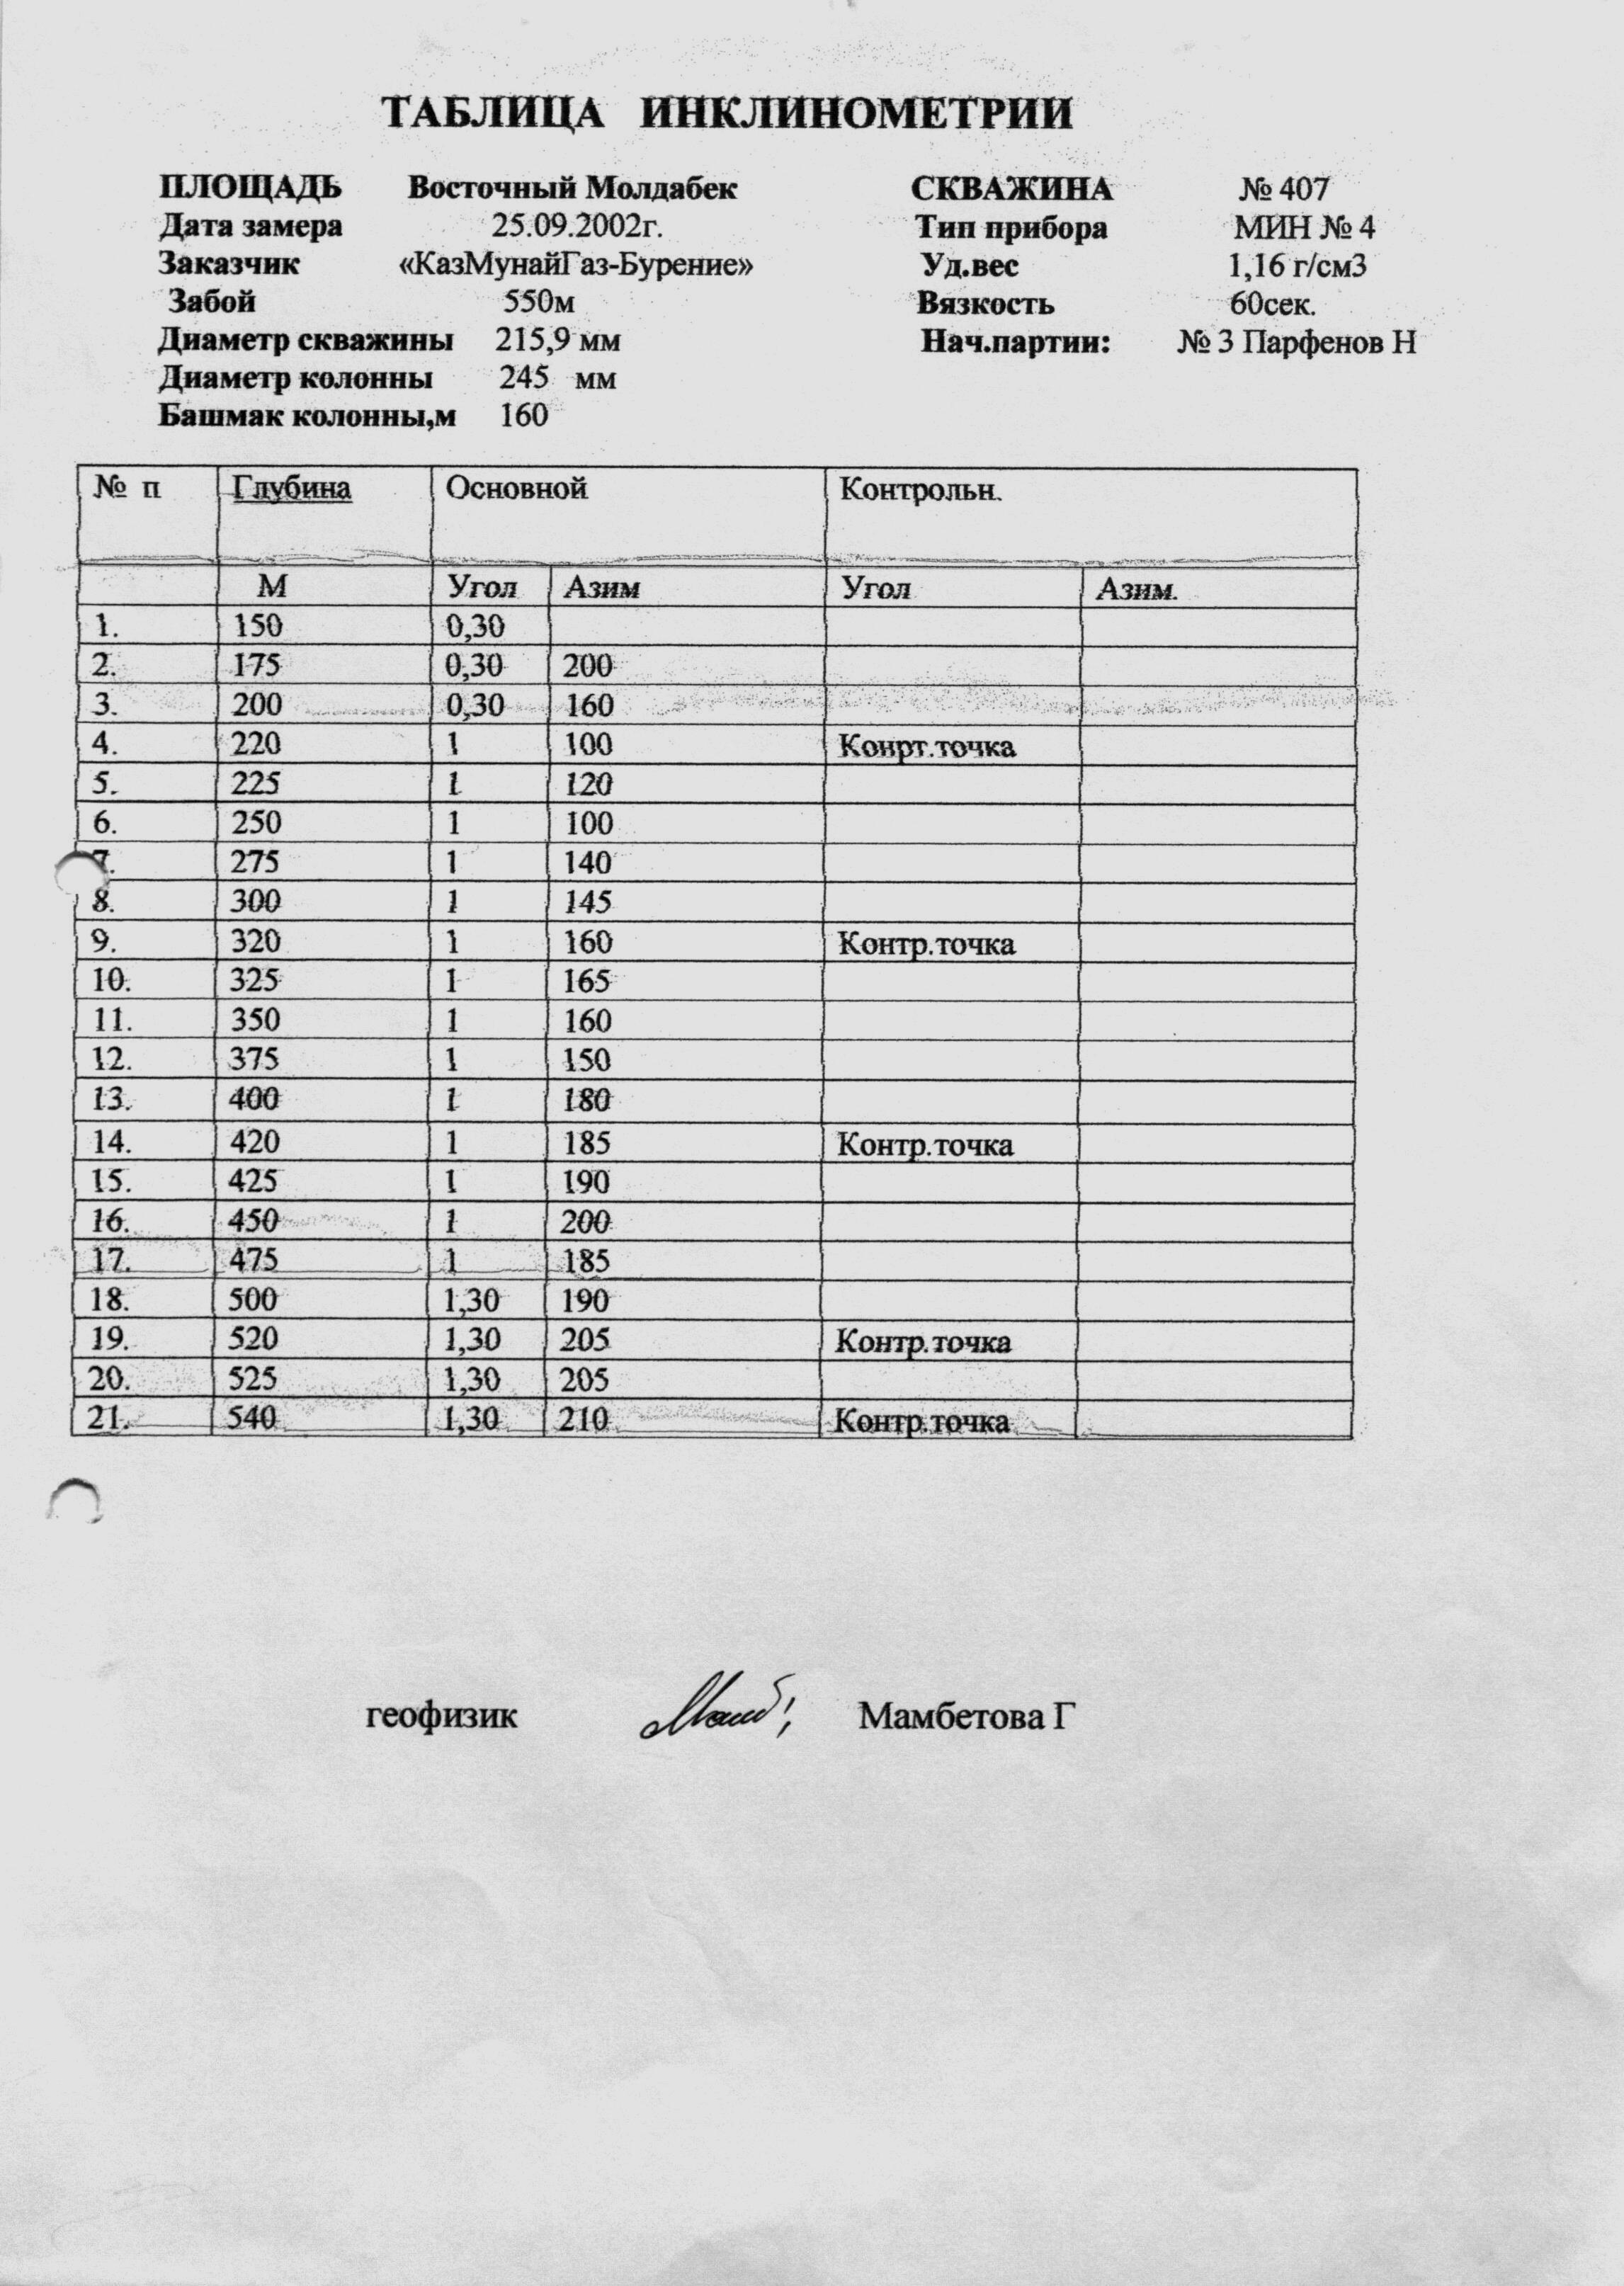Bordered: (77, 466, 1357, 1453)
